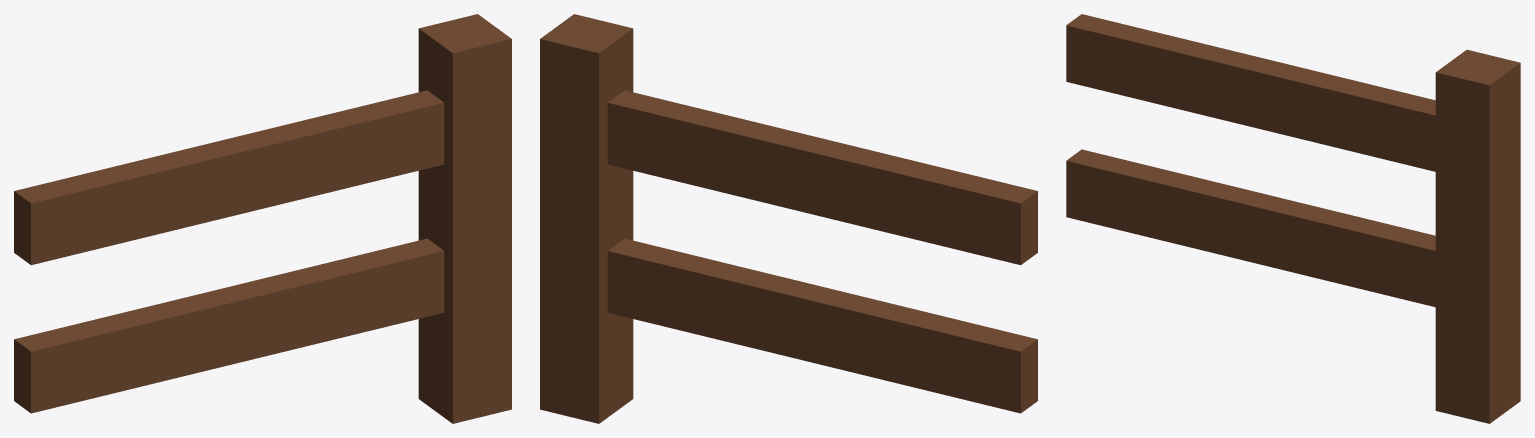
Rendered from obstacles_fance_6.fbx.
The picture shows the model from 3 angles, left to right: view 1: azimuth 30°, elevation 25°; view 2: azimuth 150°, elevation 25°; view 3: azimuth 330°, elevation 25°; orthographic projection. The views are drawn at different scales.
Visible parts, largest first — view 1: Cube.001; view 2: Cube.001; view 3: Cube.001.
Part boxes in pixels (x1,y1,x2,y2): Cube.001: [14, 14, 511, 423]; Cube.001: [540, 14, 1037, 423]; Cube.001: [1066, 14, 1520, 423].
Size of the model in its own units: 400 by 300 by 50.
